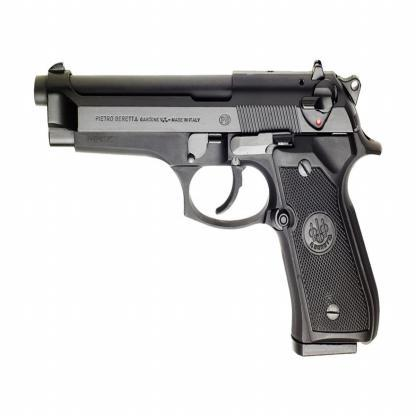Pistol: (27, 52, 384, 358)
